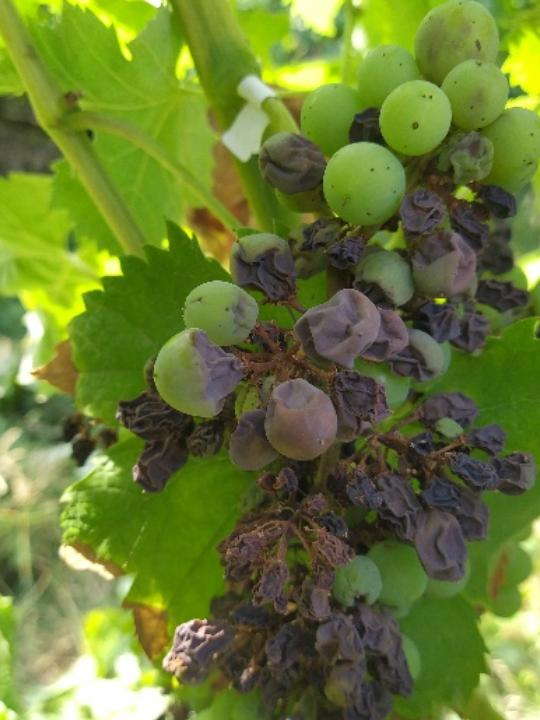grape: (109, 0, 540, 720)
